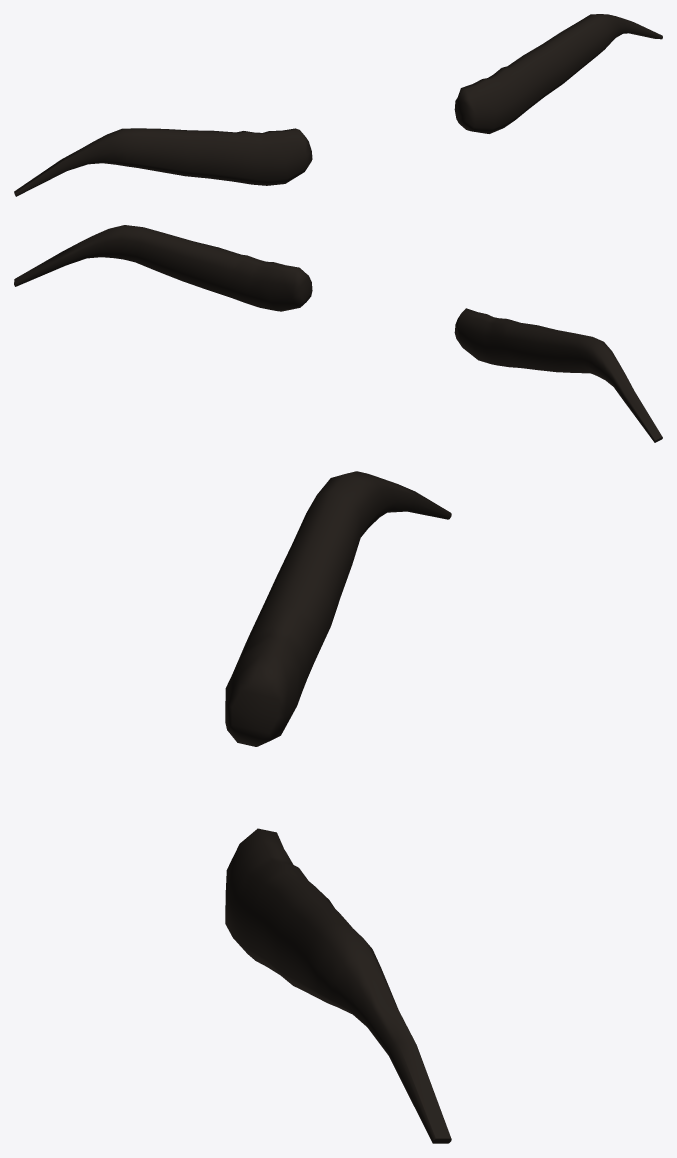
The model's file is Eyebrows_08_01.fbx.
The picture shows the model from 3 angles, top to bottom: view 1: azimuth 30°, elevation 25°; view 2: azimuth 150°, elevation 25°; view 3: azimuth 270°, elevation 25°; orthographic projection. The views are drawn at different scales.
Parts seen in each view (by area): view 1: Eyebrows_08_01; view 2: Eyebrows_08_01; view 3: Eyebrows_08_01.
Part boxes in pixels (box(x1,y1,x2,y2)): Eyebrows_08_01: box(14, 14, 662, 196); Eyebrows_08_01: box(14, 225, 662, 442); Eyebrows_08_01: box(225, 471, 451, 1143).
Bounding box in the file's own units: 19.15 × 1.96 × 2.9.
